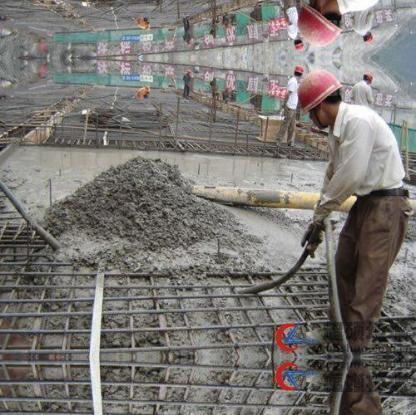helmet: (295, 63, 350, 112), (290, 61, 305, 80), (361, 69, 376, 85)
